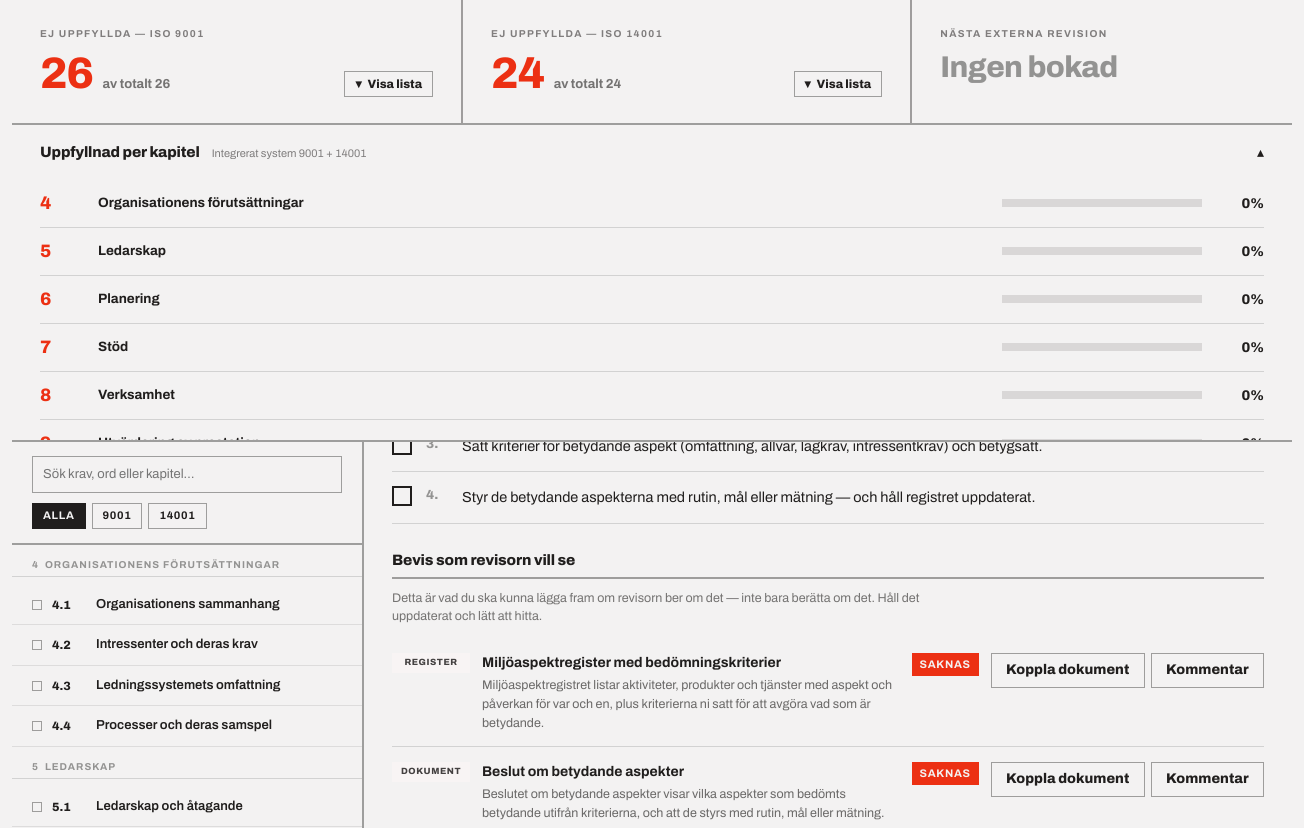
Test: linking evidence to documents › unlinks a document from its own remove button in the linked list
(page scrolled)
Step 1. Click the 1st button "Koppla dokument" → {"x": 1068, "y": 670}, box x1=991 y1=653 x2=1145 y2=688
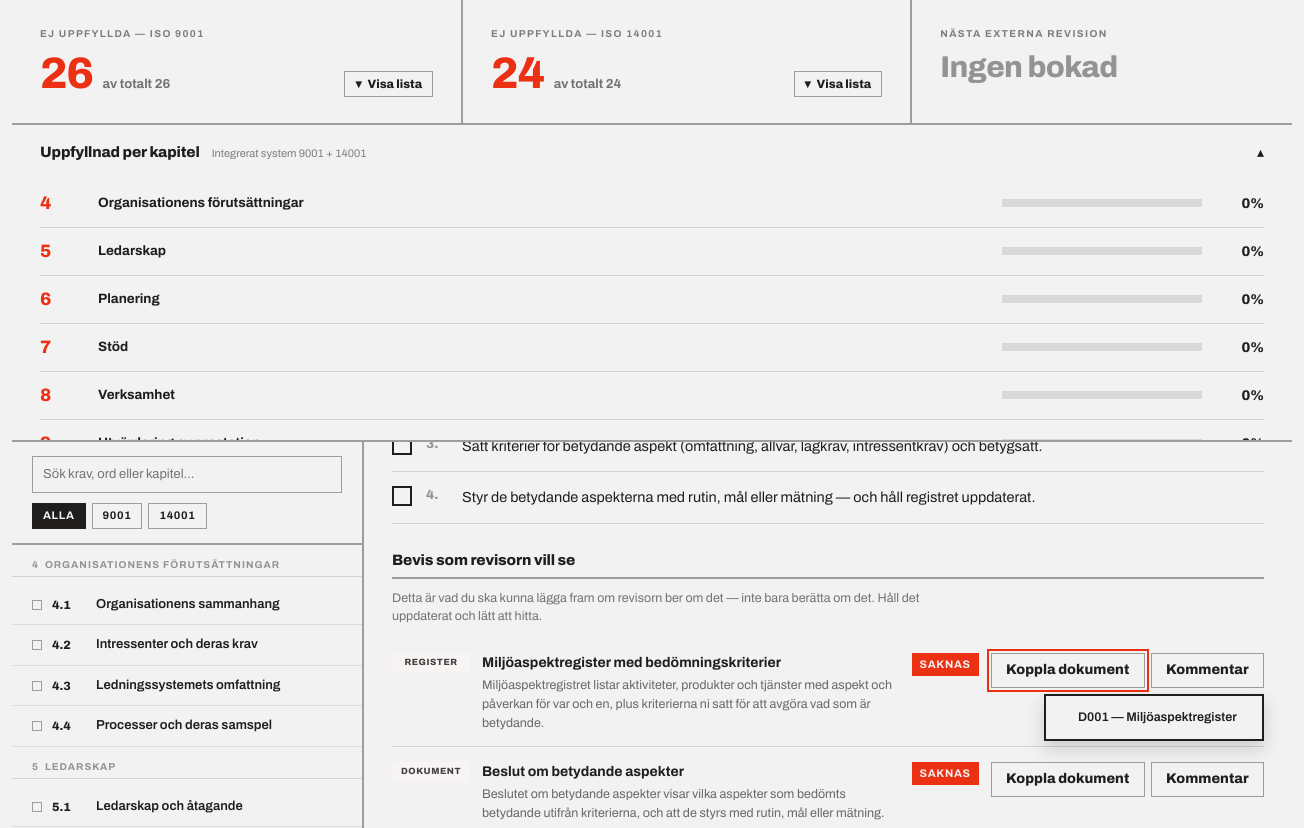
Step 2. Click the menu item "D001 — Miljöaspektregister" → {"x": 1154, "y": 717}, box x1=1050 y1=700 x2=1258 y2=735
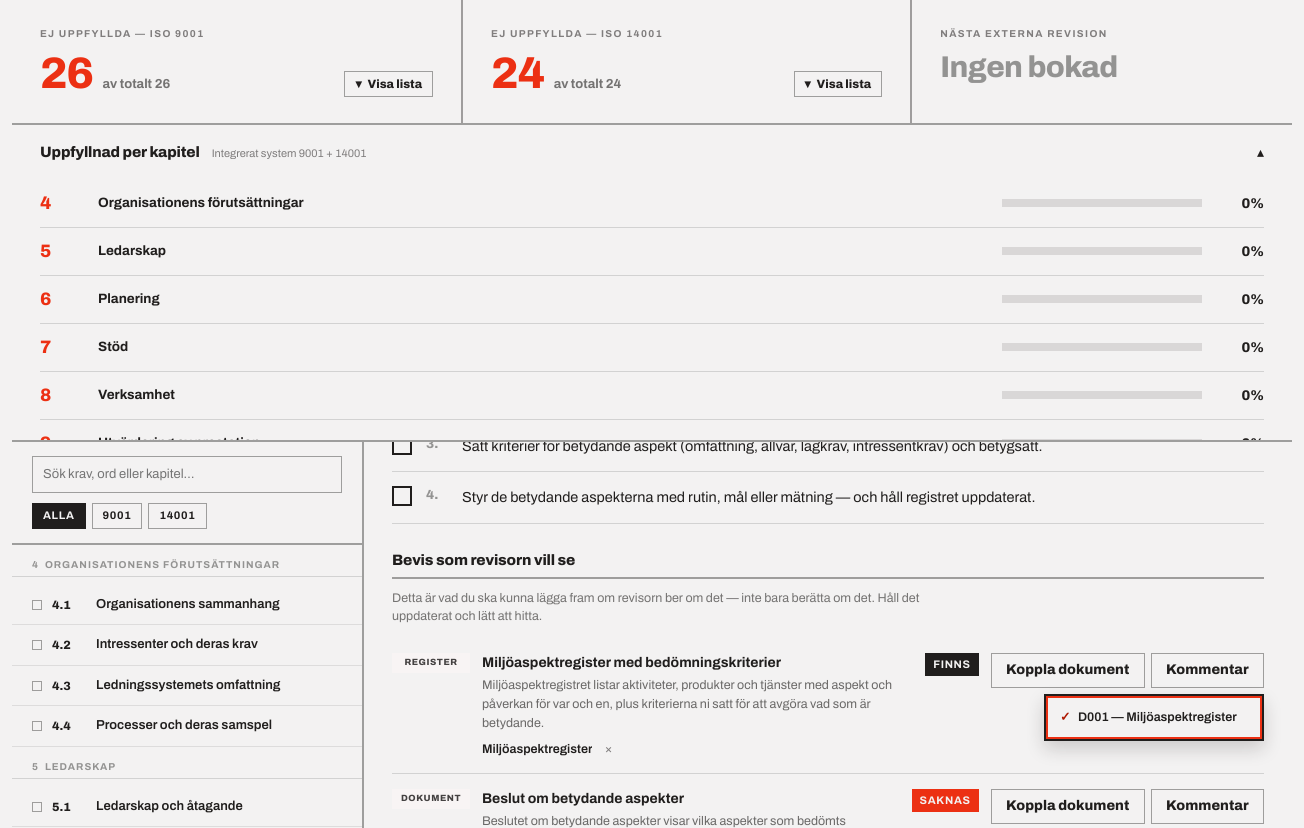
Expected: the text "Miljöaspektregister" is shown, x1=482 y1=740 x2=592 y2=759
Step 3. Click the button named "Ta bort Miljöaspektregister" → {"x": 608, "y": 750}, box x1=600 y1=742 x2=616 y2=758
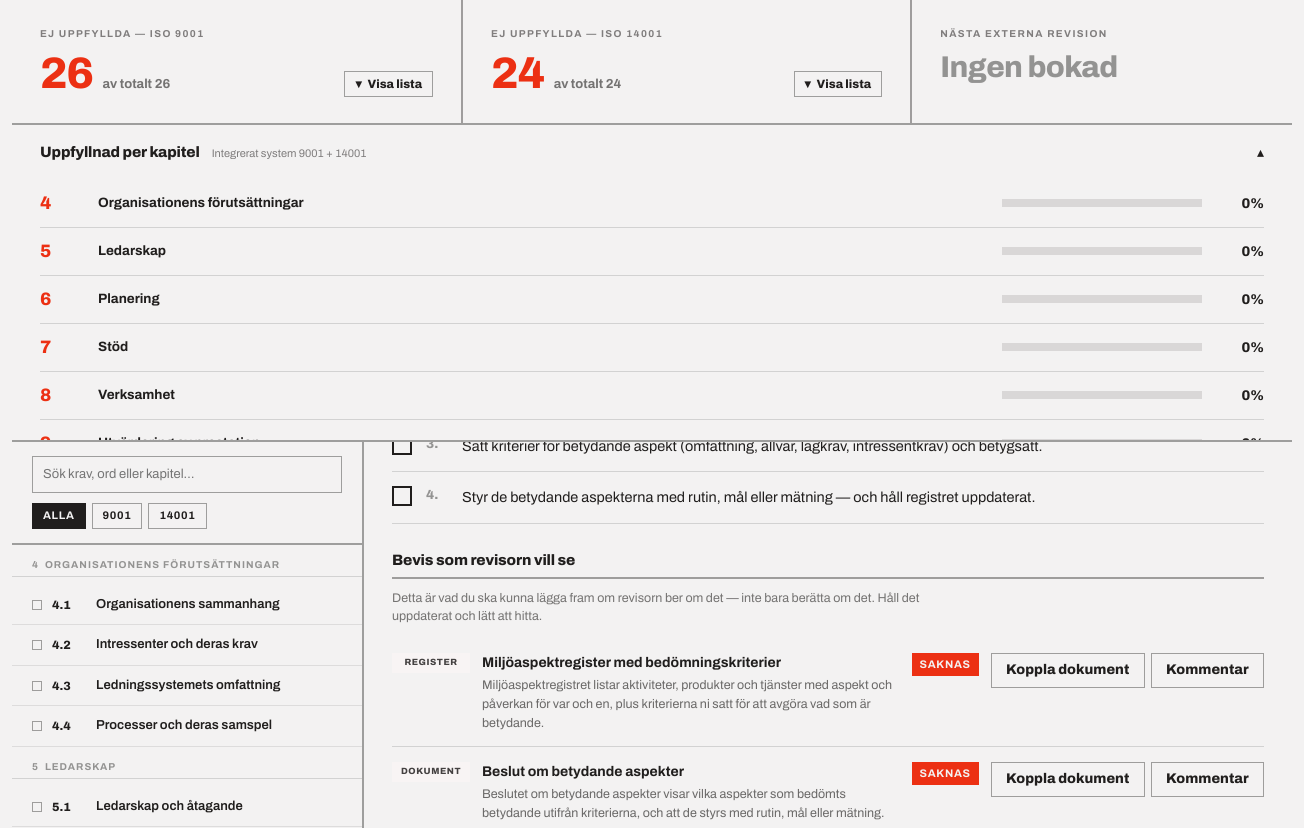
Expected: the 1st text "Saknas" is shown, x1=912 y1=653 x2=979 y2=676
